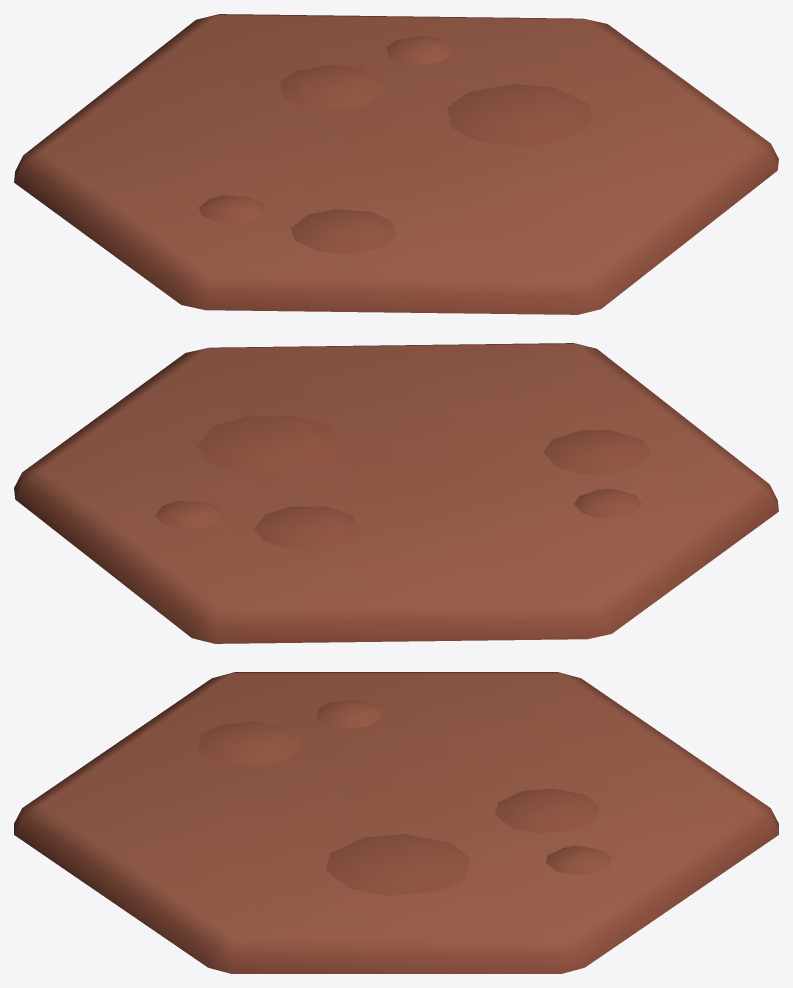
The model's file is building_dirt.gltf.
3 views of the same model, one above another, from view 1: azimuth 30°, elevation 25°; view 2: azimuth 150°, elevation 25°; view 3: azimuth 270°, elevation 25° (orthographic).
Parts seen in each view (by area): view 1: building_dirt; view 2: building_dirt; view 3: building_dirt.
Boxes of the visible parts, box(x1,y1,x2,y2) form: building_dirt: box(14, 14, 778, 314); building_dirt: box(14, 343, 778, 643); building_dirt: box(14, 672, 778, 973).
Bounding box in the file's own units: 1.79 × 0.0866 × 2.01.
1 material, 1 textured.
